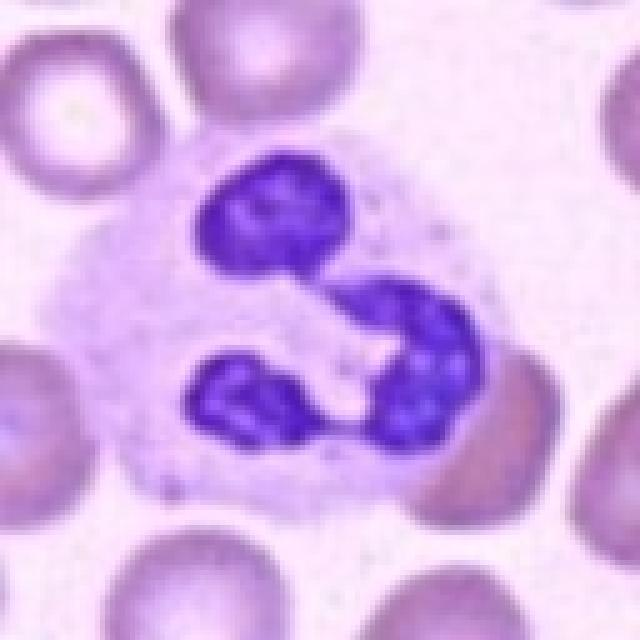neutro: (6, 135, 565, 532)
